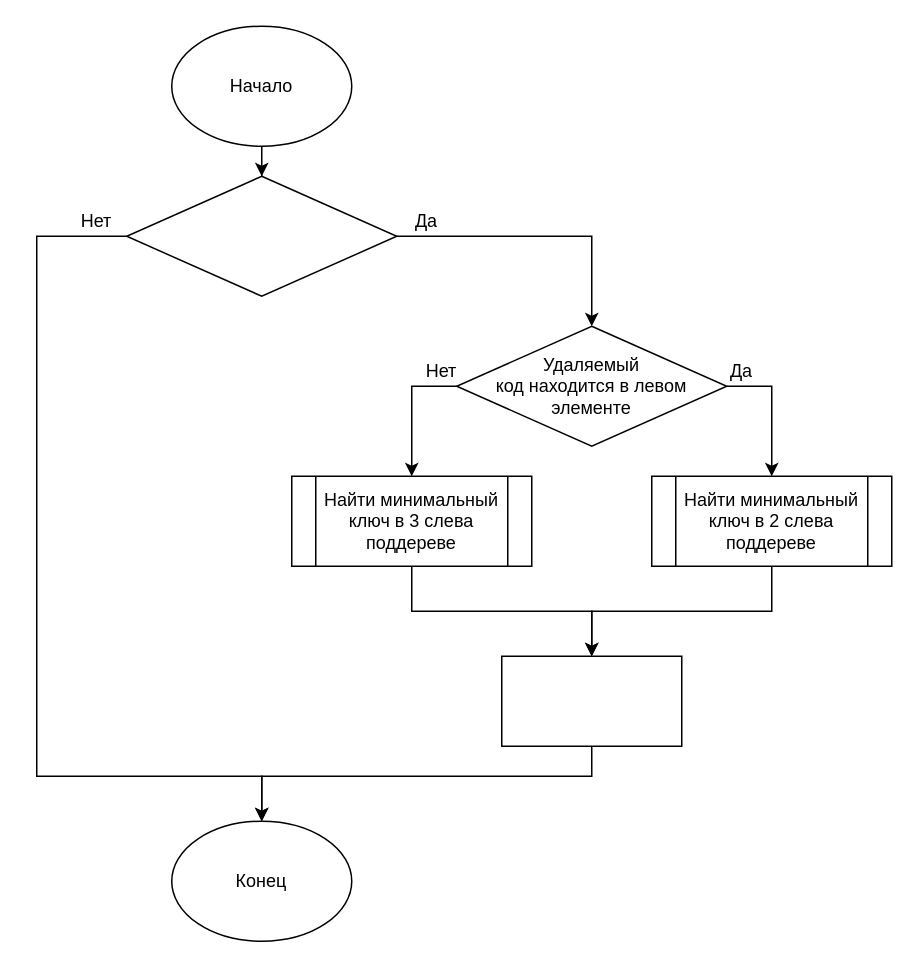
Image size: 918x968. Some labels were removed from this diagram. Here are the shapes that lost their labels. From the top down, the centre of each, then its label:
At (261,235): "Ветвь не является листом".
At (591,700): "Удаляемому элементу присвоить найденный ключ".
